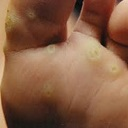Wart: (87, 47, 120, 77), (4, 7, 37, 30)
